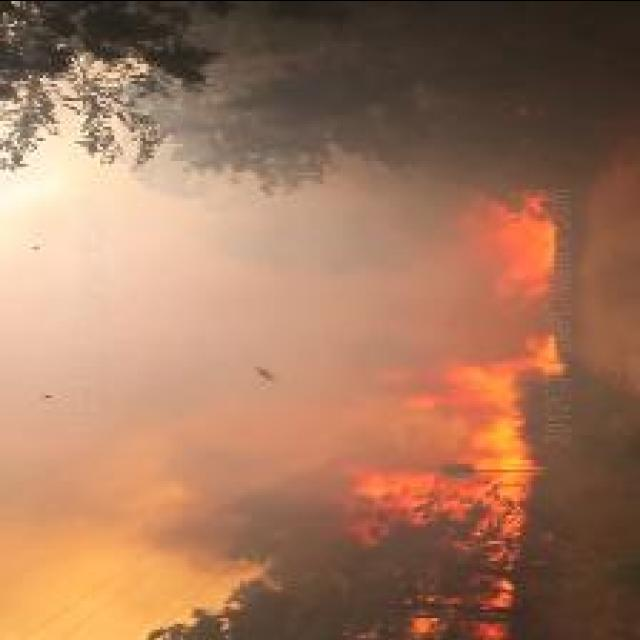Fire: (342, 334, 568, 640), (452, 184, 554, 310)
